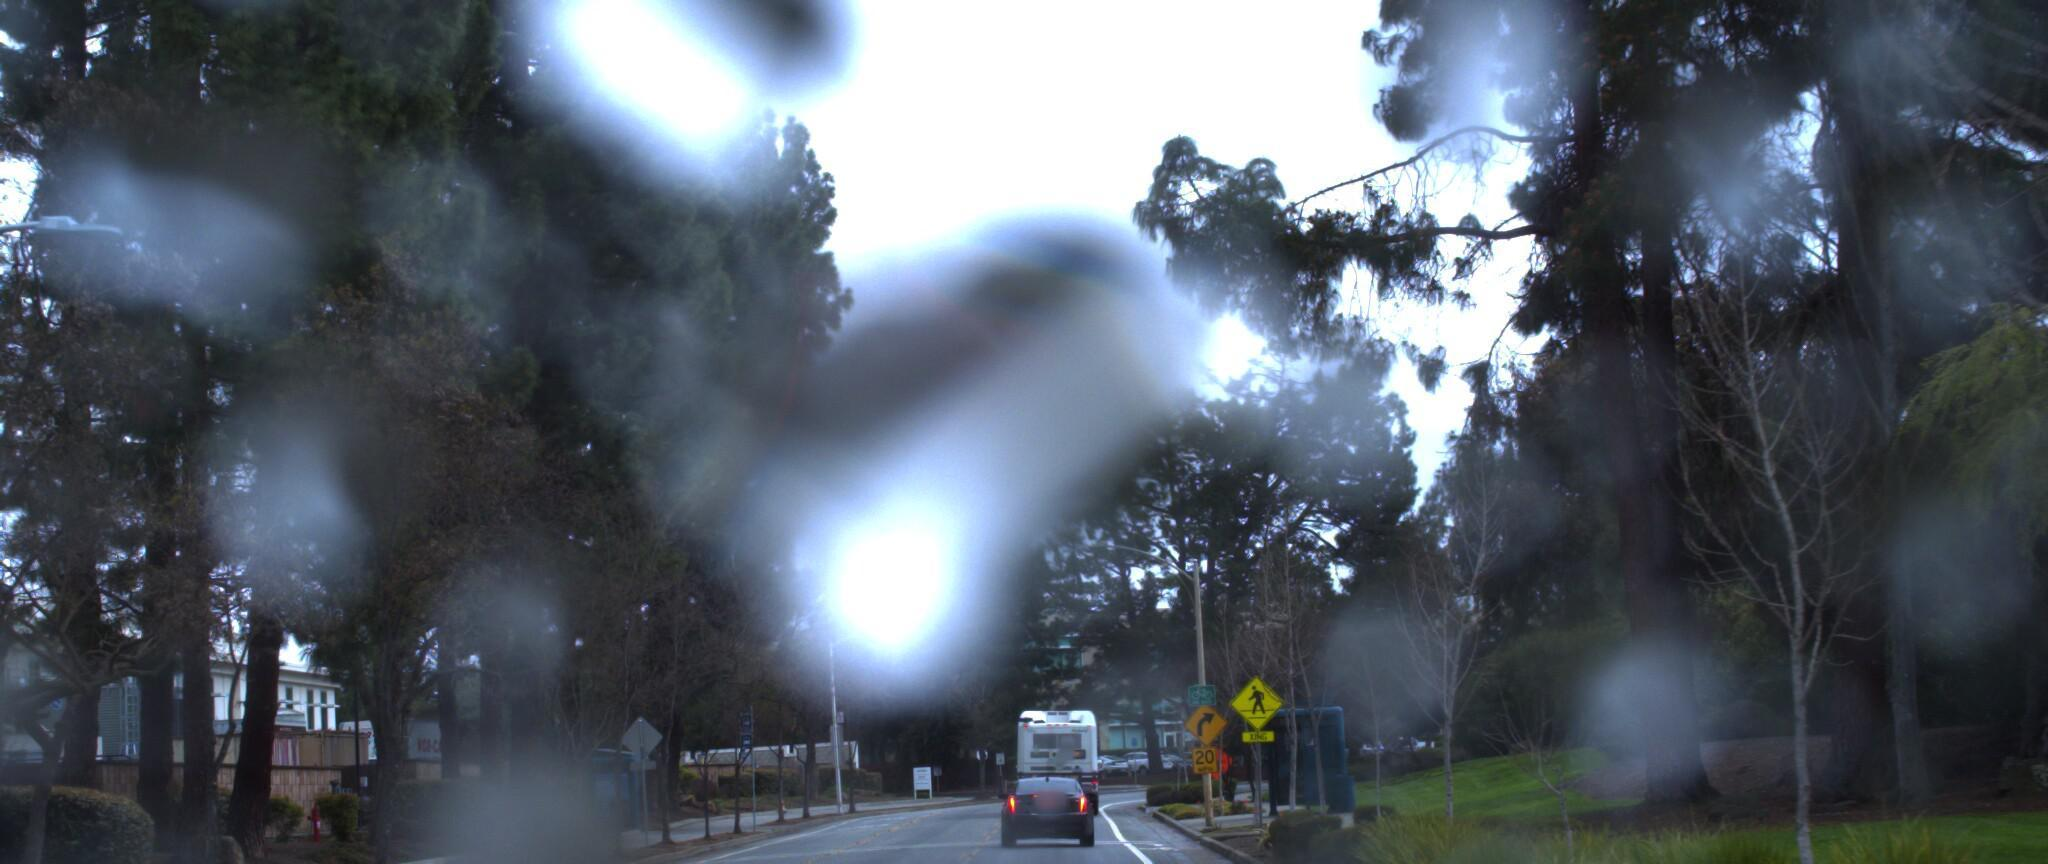car: (997, 779, 1098, 864)
